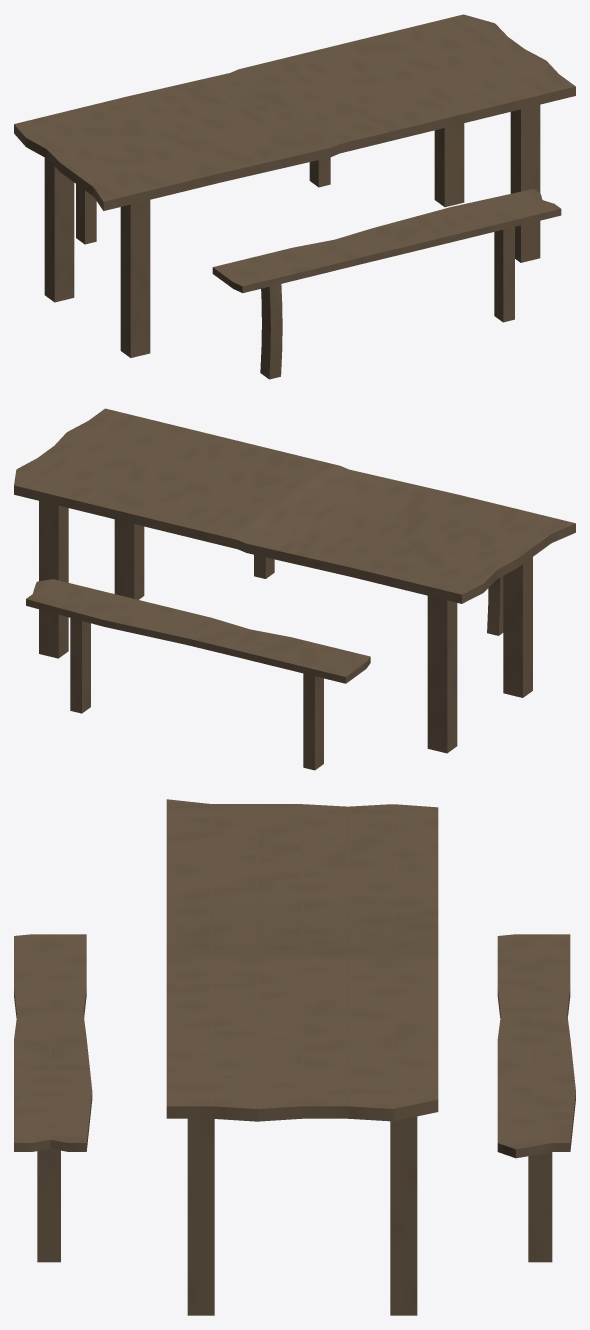
File: TableLavka.fbx
3 views of the same model, one above another, from view 1: azimuth 30°, elevation 25°; view 2: azimuth 150°, elevation 25°; view 3: azimuth 270°, elevation 25° (orthographic). The views are drawn at different scales.
Parts seen in each view (by area): view 1: Cube.076; view 2: Cube.076; view 3: Cube.076.
Part boxes in pixels (x1,y1,x2,y2): Cube.076: (14,14,575,379); Cube.076: (14,408,575,770); Cube.076: (14,799,575,1315).
Size of the model in its own units: 342 by 117 by 262.
